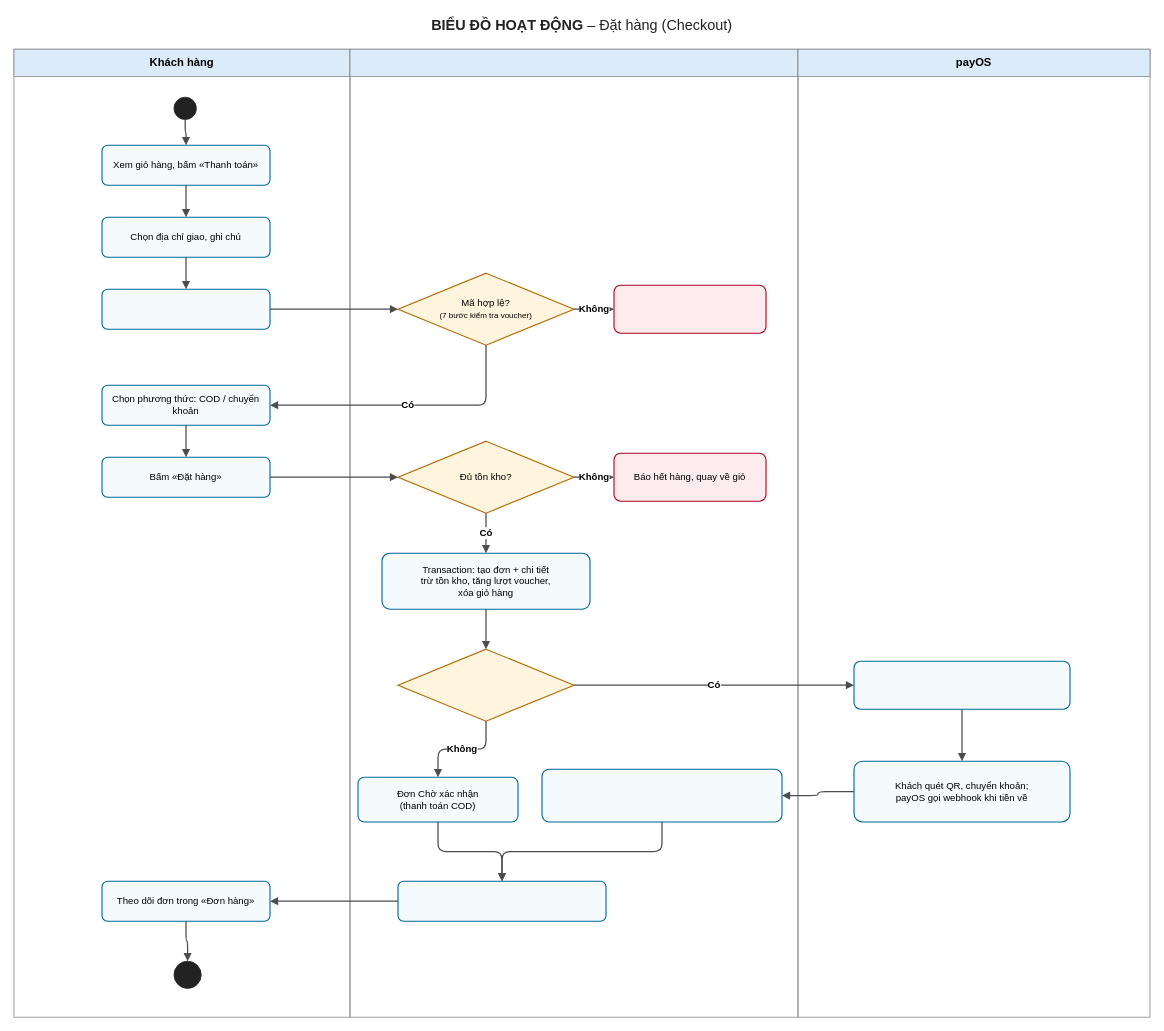
The diagram is 1164 pixels wide and 1031 high, and some of its shapes have lost their labels. Here are the shapes that lost their labels. From the top down, the centre of each, then its label:
pixel 573 62: Hệ thống Saltair
pixel 185 308: Nhập mã giảm giá (tùy chọn)
pixel 689 308: Báo lỗi mã, giữ giỏ hàng
pixel 485 684: Thanh toán chuyển khoản?
pixel 961 684: payOS tạo link / mã QR thanh toán
pixel 661 795: PaymentWebhookServlet: kiểm tra chữ ký, đặt payment_status = PAID
pixel 501 900: Trang đặt hàng thành công
